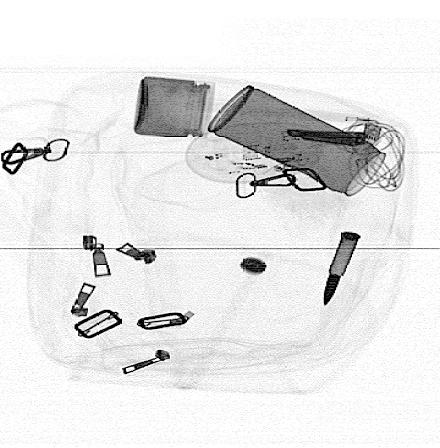Bullet: (324, 231, 361, 309)
